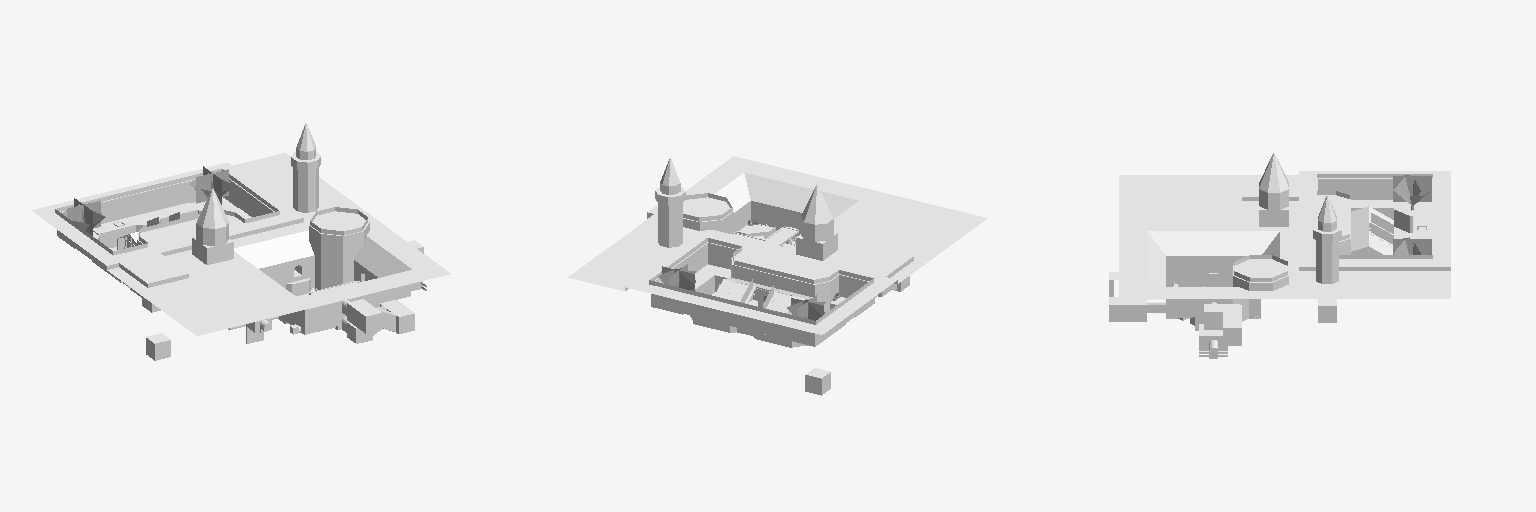
File: Adv4Greenhouse.obj
3 views of the same model, side by side, from view 1: azimuth 30°, elevation 25°; view 2: azimuth 150°, elevation 25°; view 3: azimuth 270°, elevation 25° (orthographic).
Visible parts, largest first — view 1: Group47_Group47.001, Group44_Group44.001, Group39_Group39.001, Group50_Group50.001, Group55_Group55.001, Group48_Group48.001, skMapleTreeFullMesh_skMapleTreeFullMesh.001, Group51_Group51.001, Group73_Group73.001; view 2: Group47_Group47.001, Group44_Group44.001, Group39_Group39.001, Group50_Group50.001, Group55_Group55.001, skMapleTreeFullMesh_skMapleTreeFullMesh.001, Group73_Group73.001, Group51_Group51.001; view 3: Group47_Group47.001, Group44_Group44.001, Group39_Group39.001, skMapleTreeFullMesh_skMapleTreeFullMesh.001, Group55_Group55.001, Group50_Group50.001, Group51_Group51.001, Group52_Group52.001, Group56_Group56.001, Group65_Group65.001.
Boxes of the visible parts, box(x1,y1,x2,y2) form: Group47_Group47.001: box(107, 123, 450, 335); Group44_Group44.001: box(31, 163, 422, 332); Group39_Group39.001: box(57, 148, 423, 343); Group50_Group50.001: box(55, 168, 367, 255); Group55_Group55.001: box(57, 197, 386, 334); Group48_Group48.001: box(192, 223, 363, 278); skMapleTreeFullMesh_skMapleTreeFullMesh.001: box(63, 166, 234, 235); Group51_Group51.001: box(291, 157, 369, 244); Group73_Group73.001: box(61, 179, 272, 244); Group47_Group47.001: box(568, 156, 987, 290); Group44_Group44.001: box(625, 206, 913, 334); Group39_Group39.001: box(647, 182, 909, 345); Group50_Group50.001: box(649, 193, 873, 324); Group55_Group55.001: box(651, 218, 845, 347); skMapleTreeFullMesh_skMapleTreeFullMesh.001: box(657, 264, 825, 320); Group73_Group73.001: box(655, 243, 867, 288); Group51_Group51.001: box(655, 191, 733, 230); Group47_Group47.001: box(1119, 153, 1450, 298); Group44_Group44.001: box(1109, 171, 1450, 335); Group39_Group39.001: box(1109, 183, 1392, 350); skMapleTreeFullMesh_skMapleTreeFullMesh.001: box(1393, 175, 1431, 254); Group55_Group55.001: box(1166, 208, 1426, 330); Group50_Group50.001: box(1234, 174, 1432, 281); Group51_Group51.001: box(1233, 230, 1341, 290); Group52_Group52.001: box(1195, 256, 1231, 272); Group56_Group56.001: box(1394, 202, 1431, 238); Group65_Group65.001: box(1351, 212, 1381, 254).
Size of the model in its own units: 4352 by 2943 by 4608.